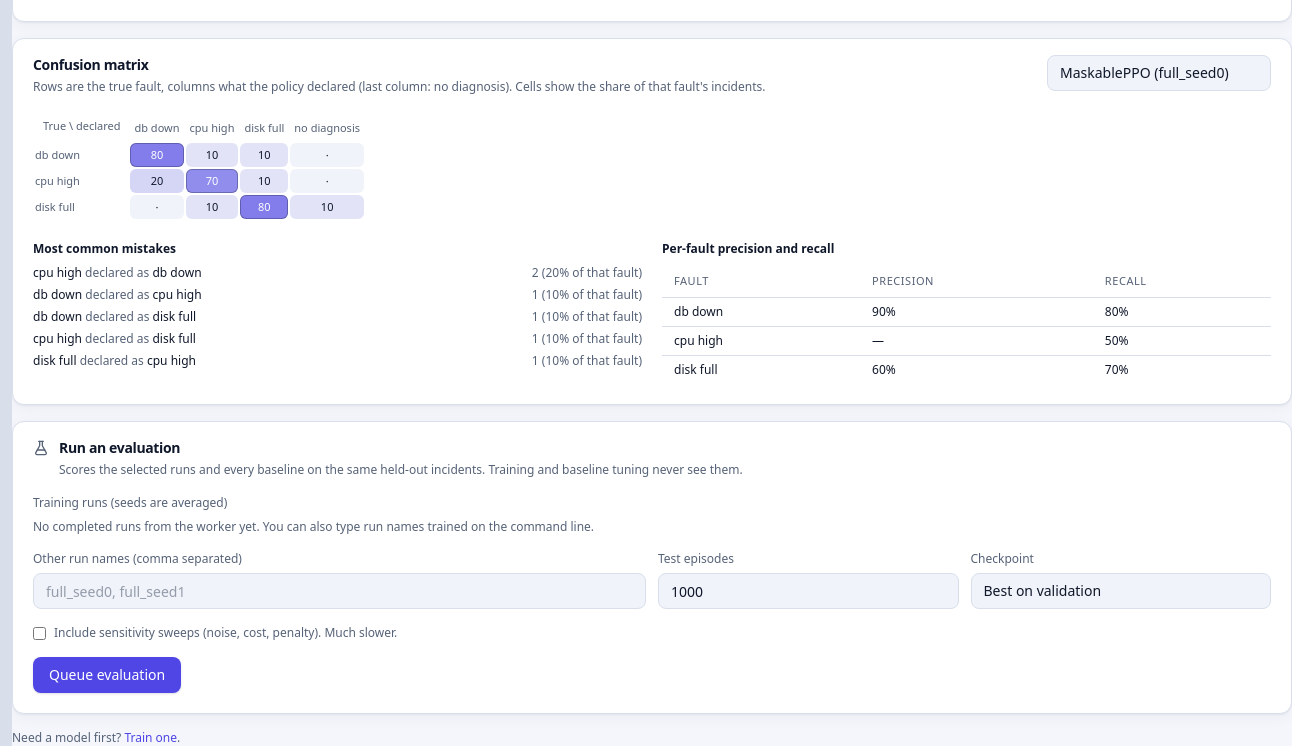
Test: Comparison › validates the evaluation request locally
(page scrolled)
Step 1. Click the button "Queue evaluation" → (107, 675), box [33, 657, 181, 693]
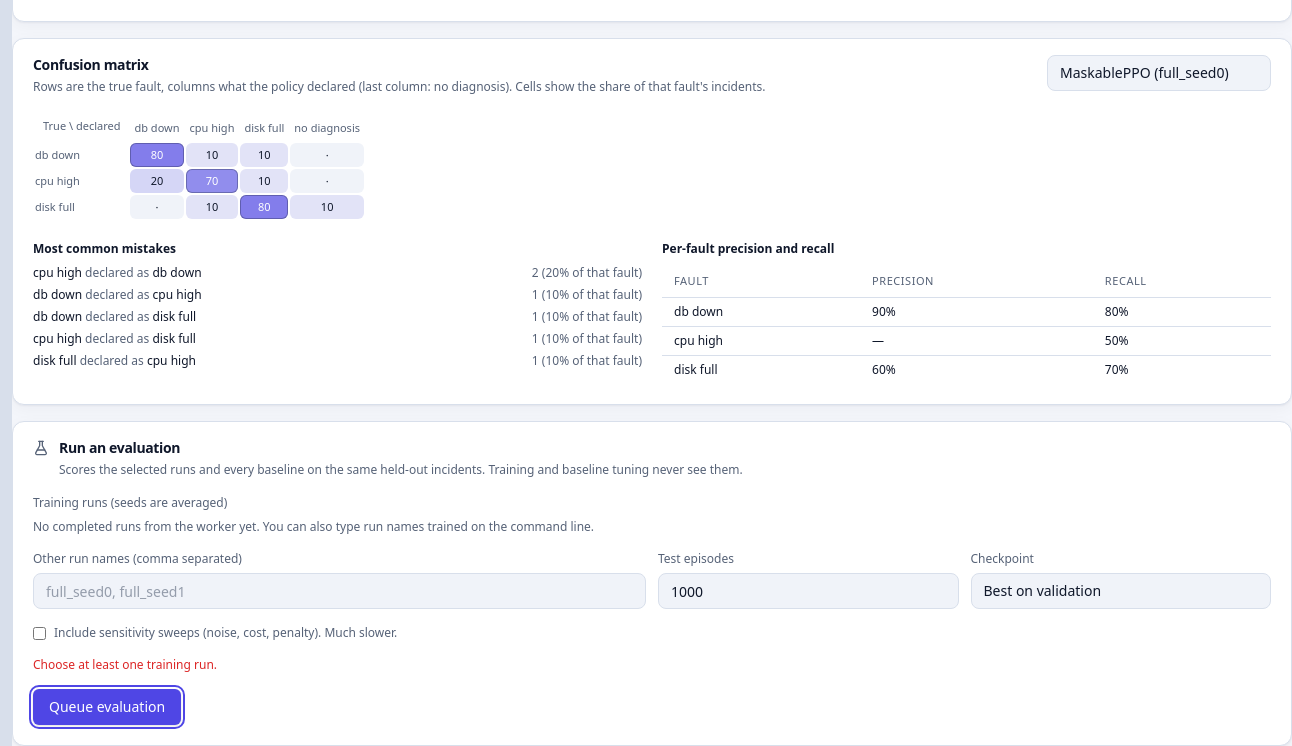
Expected: the text "Choose at least one training run." is shown, [33, 656, 217, 673]
Step 2. Type "full_seed0" into the field labelled "Other run names" → (340, 591), box [33, 573, 646, 609]
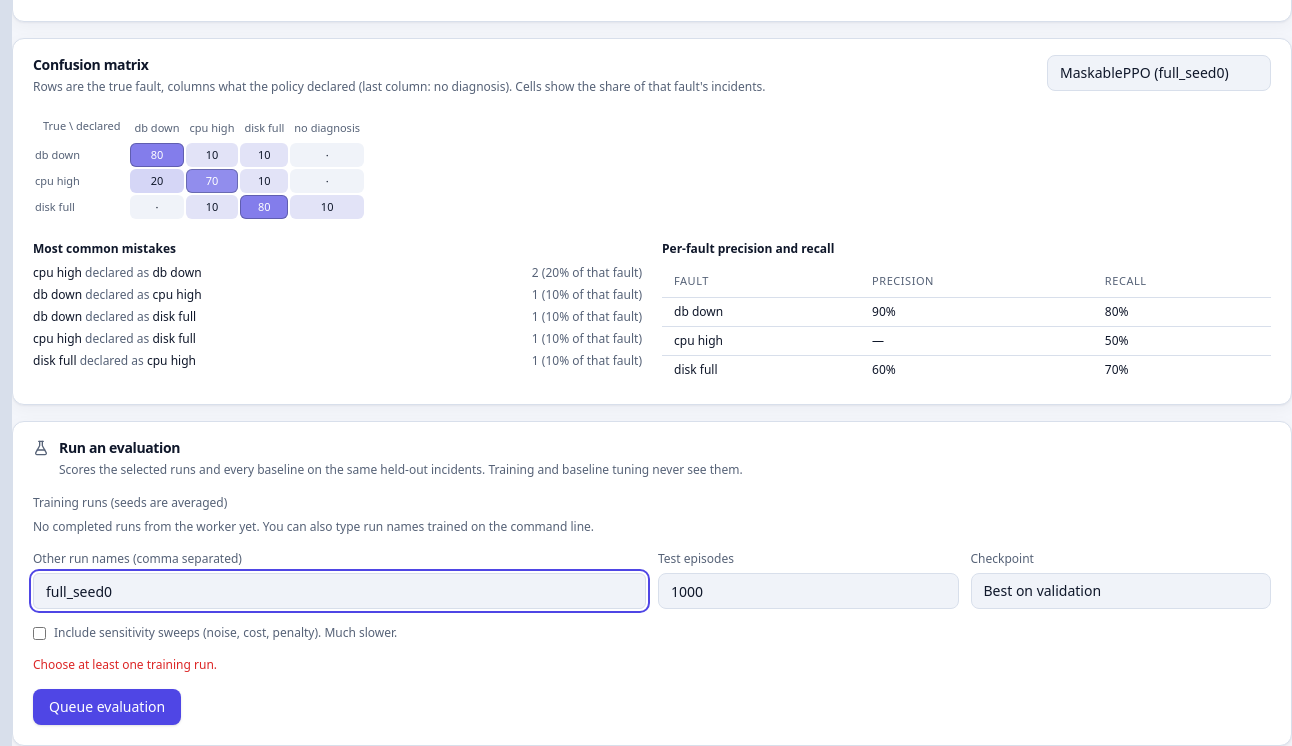
Step 3. Replace the text in the field labelled "Test episodes" with "5" → (808, 591), box [658, 573, 958, 609]
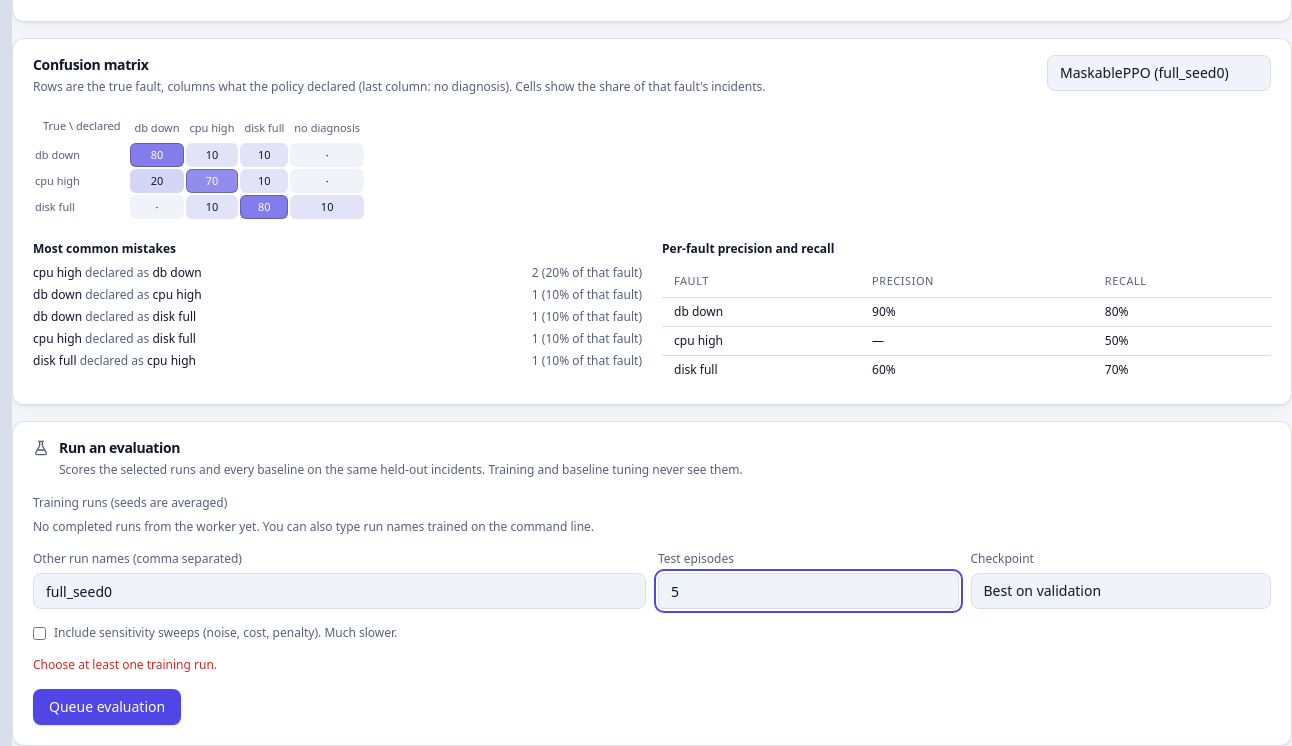
Step 4. Click the button "Queue evaluation" → (107, 707), box [33, 689, 181, 725]
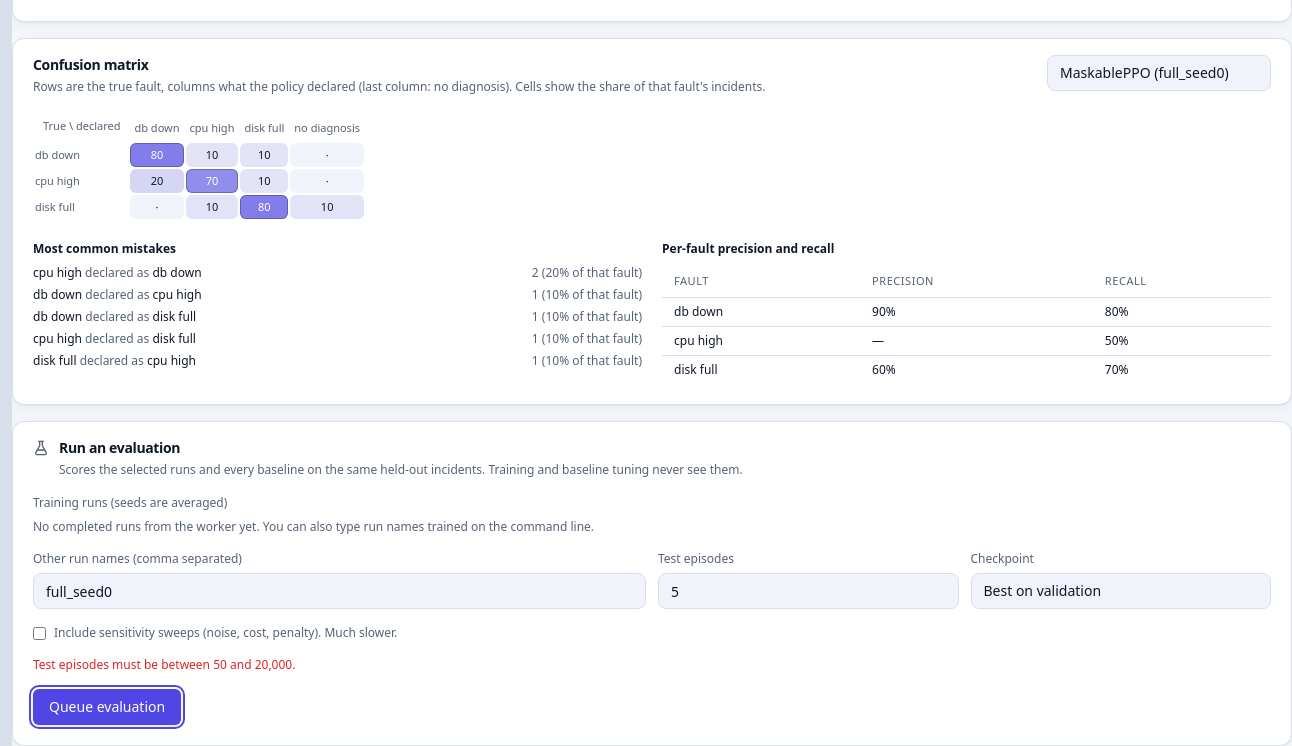
Expected: the text "Test episodes must be between 50 and 20,000." is shown, [33, 656, 295, 673]
